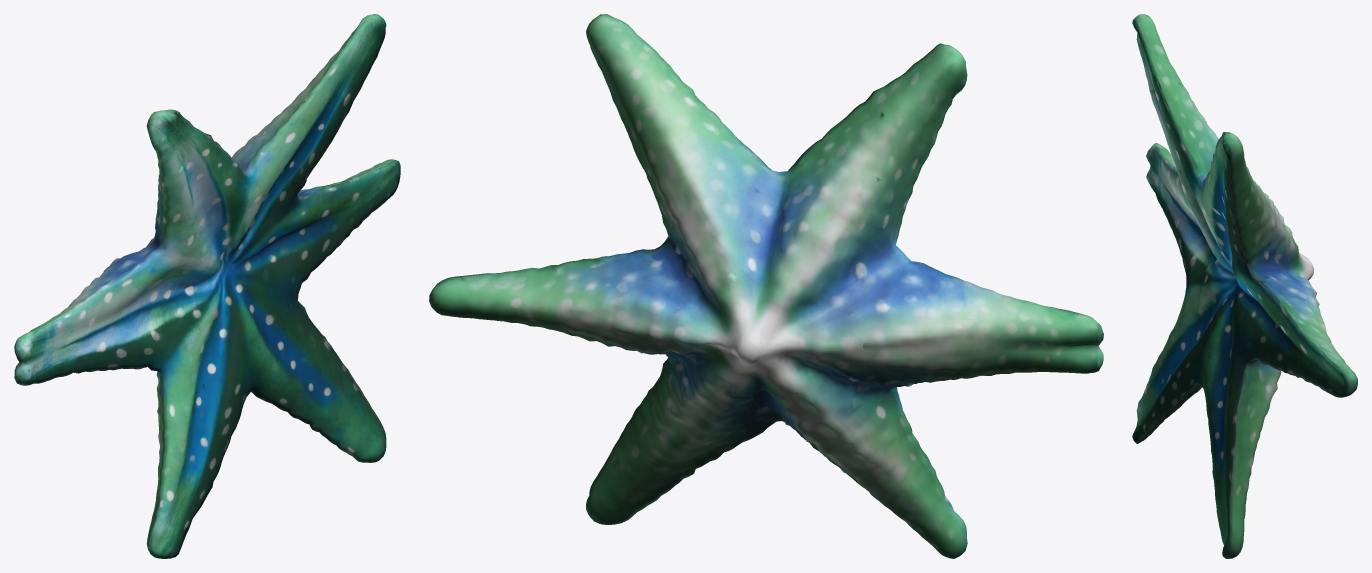
File: Boss Star Fish.fbx
The picture shows the model from 3 angles, left to right: view 1: azimuth 30°, elevation 25°; view 2: azimuth 150°, elevation 25°; view 3: azimuth 270°, elevation 25°; orthographic projection. The views are drawn at different scales.
Parts seen in each view (by area): view 1: Mesh1; view 2: Mesh1; view 3: Mesh1.
Part boxes in pixels (bbox=[...]): Mesh1: bbox=[14, 14, 400, 558]; Mesh1: bbox=[429, 14, 1103, 558]; Mesh1: bbox=[1132, 14, 1357, 558].
Bounding box in the file's own units: 200 × 176 × 84.59.
Materials: 1 (1 with a texture image).
